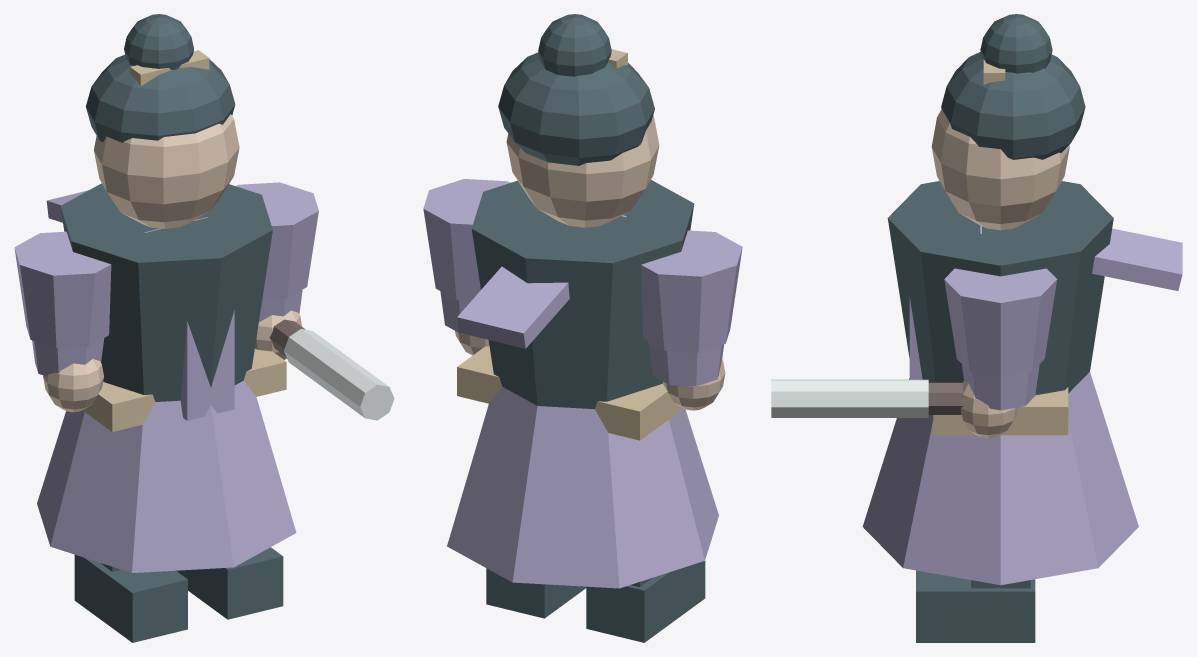
Rendered from dagger.glb.
3 renders of one model, left to right at view 1: azimuth 30°, elevation 25°; view 2: azimuth 150°, elevation 25°; view 3: azimuth 270°, elevation 25°, orthographic. The views are drawn at different scales.
Visible parts, largest first — view 1: 下摆.003, 衣襟.003, Head.003, Hair.003, 衣袖.006, 靴.006, 衣袖.007, 飞刃.001, 靴.007, 腰带.003, 前襟.003, 发髻.003 (+6 smaller); view 2: 下摆.003, 衣襟.003, Hair.003, 衣袖.006, Head.003, 靴.006, 衣袖.007, Scarf.003, 腰带.003, 发髻.003, 靴.007, 小臂.006 (+3 smaller); view 3: 下摆.003, 衣襟.003, Hair.003, 衣袖.007, Head.003, 靴.007, 飞刃.001, Scarf.003, 发髻.003, 腰带.003, 小臂.007, 手.007 (+2 smaller).
Part boxes in pixels (x1,y1,x2,y2): 下摆.003: [37, 380, 296, 572]; 衣襟.003: [60, 183, 272, 401]; Head.003: [94, 114, 239, 228]; Hair.003: [86, 54, 235, 142]; 衣袖.006: [14, 231, 111, 348]; 靴.006: [74, 555, 187, 642]; 衣袖.007: [236, 182, 318, 299]; 飞刃.001: [284, 329, 394, 420]; 靴.007: [176, 547, 283, 619]; 腰带.003: [83, 349, 286, 431]; 前襟.003: [180, 310, 234, 420]; 发髻.003: [124, 14, 193, 69]; 下摆.003: [447, 386, 718, 588]; 衣襟.003: [471, 180, 694, 409]; Hair.003: [498, 52, 654, 165]; 衣袖.006: [641, 230, 742, 352]; Head.003: [506, 115, 659, 227]; 靴.006: [586, 560, 705, 642]; 衣袖.007: [423, 179, 510, 300]; Scarf.003: [457, 215, 626, 348]; 腰带.003: [457, 346, 683, 440]; 发髻.003: [538, 14, 611, 76]; 靴.007: [486, 568, 586, 618]; 小臂.006: [648, 342, 723, 386]; 下摆.003: [862, 372, 1138, 585]; 衣襟.003: [887, 181, 1113, 395]; Hair.003: [941, 52, 1085, 159]; 衣袖.007: [944, 268, 1057, 377]; Head.003: [931, 109, 1069, 230]; 靴.007: [916, 570, 1035, 642]; 飞刃.001: [771, 379, 928, 417]; Scarf.003: [980, 225, 1182, 290]; 发髻.003: [980, 14, 1052, 73]; 腰带.003: [933, 387, 1068, 435]; 小臂.007: [962, 364, 1039, 410]; 手.007: [959, 380, 1018, 438].
Bounding box in the file's own units: 1.11 × 2.07 × 1.31.
